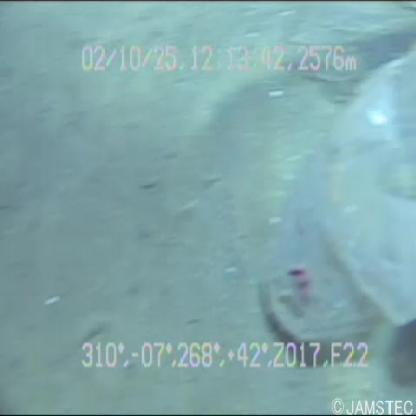Rác: (242, 15, 416, 357)
